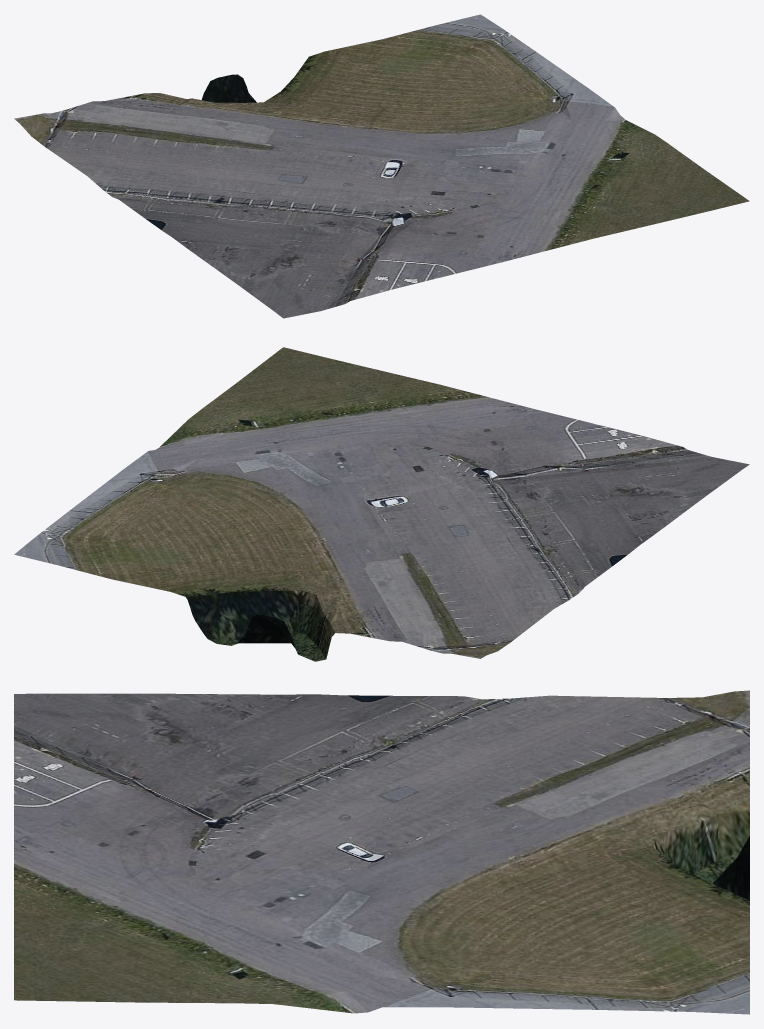
File: map_15_8187_13783.dae
3 views of the same model, one above another, from view 1: azimuth 30°, elevation 25°; view 2: azimuth 150°, elevation 25°; view 3: azimuth 270°, elevation 25° (orthographic). The views are drawn at different scales.
Visible parts, largest first — view 1: Ter0; view 2: Ter0; view 3: Ter0.
Part boxes in pixels (x1,y1,x2,y2): Ter0: (14,14,749,318); Ter0: (14,347,749,661); Ter0: (14,690,749,1014).
Size of the model in its own units: 63.87 by 63.88 by 6.65.
3 materials, 3 textured.
